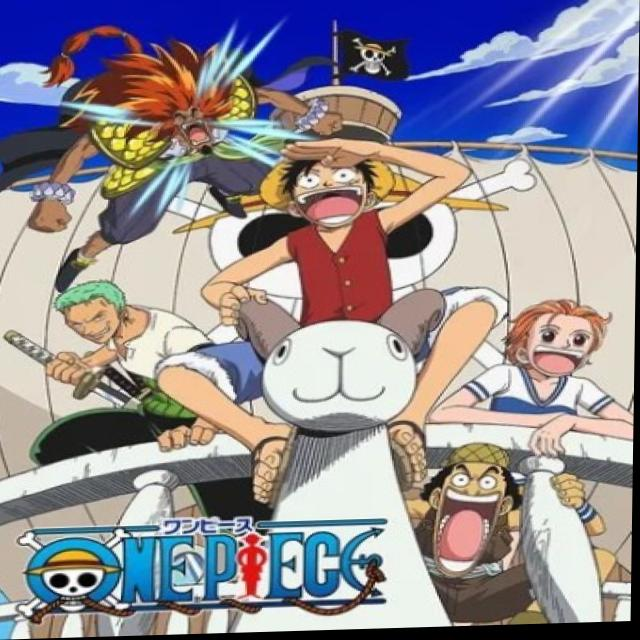Luffy: (251, 130, 404, 239)
Nami: (497, 302, 616, 387)
Usopp: (418, 420, 519, 584)
Zoro: (60, 274, 129, 352)
